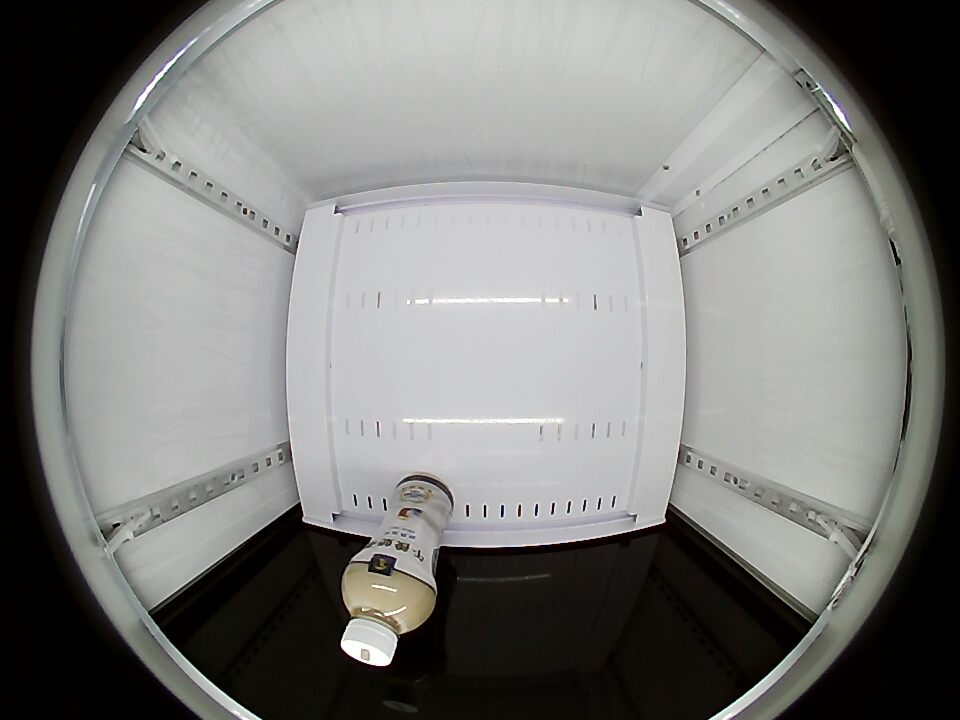wuhounaicha: (339, 559, 436, 668)
